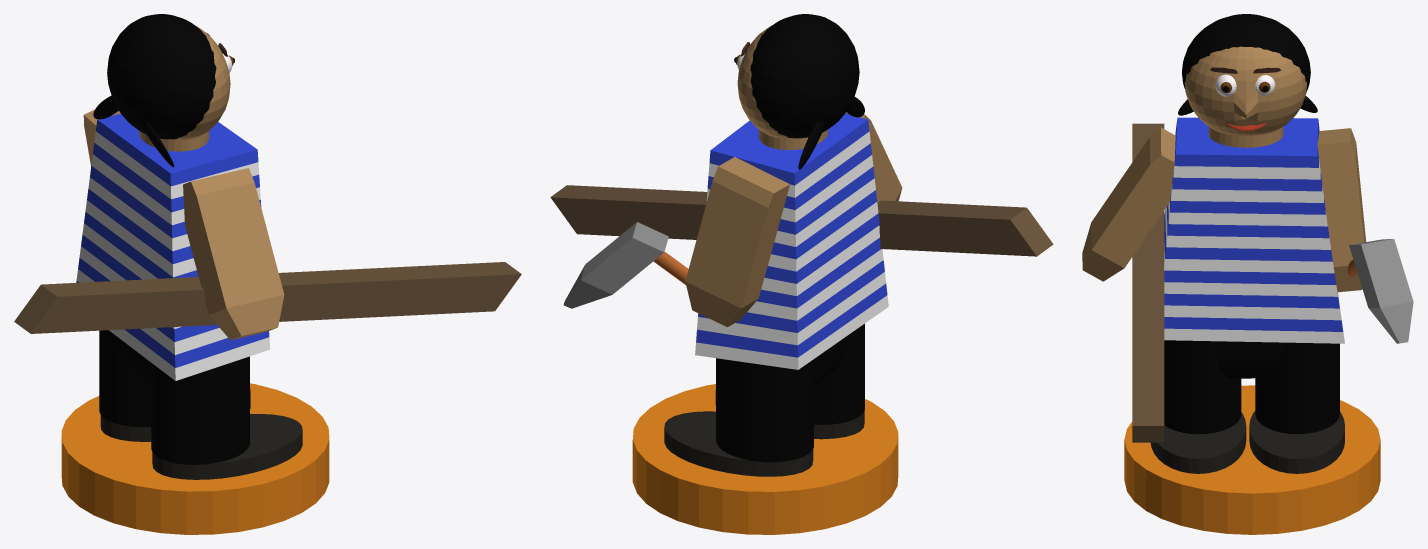
File: Плотник.fbx
3 views of the same model, side by side, from view 1: azimuth 30°, elevation 25°; view 2: azimuth 150°, elevation 25°; view 3: azimuth 270°, elevation 25° (orthographic). The views are drawn at different scales.
Parts seen in each view (by area): view 1: Cylinder.101, Cylinder.092, Cylinder.106, Cylinder.102, Cylinder.082, Cylinder.095, Cylinder.093, Cylinder.096, Cylinder.084, Cylinder.098, Cylinder.005, Cylinder.094; view 2: Cylinder.101, Cylinder.092, Cylinder.106, Cylinder.103, Cylinder.082, Cylinder.096, Cylinder.105, Cylinder.005, Cylinder.095, Cylinder.102, Cylinder.084, Cylinder.098 (+2 smaller); view 3: Cylinder.101, Cylinder.092, Cylinder.084, Cylinder.106, Cylinder.102, Cylinder.096, Cylinder.095, Cylinder.103, Cylinder.105, Cylinder.082, Cylinder.005, Cylinder.093 (+2 smaller).
Boxes of the visible parts, left/top/right/bottom form: Cylinder.101: left=76, top=113, right=270, bottom=380; Cylinder.092: left=61, top=383, right=329, bottom=534; Cylinder.106: left=14, top=262, right=521, bottom=333; Cylinder.102: left=183, top=168, right=284, bottom=340; Cylinder.082: left=107, top=14, right=216, bottom=139; Cylinder.095: left=151, top=356, right=249, bottom=464; Cylinder.093: left=152, top=414, right=302, bottom=479; Cylinder.096: left=99, top=330, right=151, bottom=427; Cylinder.084: left=174, top=25, right=230, bottom=139; Cylinder.098: left=113, top=334, right=151, bottom=387; Cylinder.005: left=100, top=388, right=250, bottom=441; Cylinder.094: left=139, top=131, right=209, bottom=151; Cylinder.101: left=695, top=113, right=888, bottom=369; Cylinder.092: left=632, top=384, right=898, bottom=534; Cylinder.106: left=550, top=185, right=1053, bottom=256; Cylinder.103: left=685, top=156, right=789, bottom=327; Cylinder.082: left=750, top=14, right=859, bottom=138; Cylinder.096: left=716, top=358, right=813, bottom=462; Cylinder.105: left=563, top=222, right=668, bottom=308; Cylinder.005: left=664, top=411, right=813, bottom=476; Cylinder.095: left=814, top=323, right=864, bottom=424; Cylinder.102: left=846, top=112, right=902, bottom=202; Cylinder.084: left=737, top=25, right=792, bottom=138; Cylinder.098: left=813, top=333, right=851, bottom=385; Cylinder.101: left=1164, top=117, right=1344, bottom=343; Cylinder.092: left=1124, top=385, right=1380, bottom=534; Cylinder.084: left=1184, top=46, right=1307, bottom=135; Cylinder.106: left=1132, top=123, right=1164, bottom=442; Cylinder.102: left=1082, top=127, right=1175, bottom=281; Cylinder.096: left=1255, top=342, right=1339, bottom=434; Cylinder.095: left=1164, top=340, right=1241, bottom=434; Cylinder.103: left=1316, top=128, right=1366, bottom=292; Cylinder.105: left=1349, top=239, right=1413, bottom=343; Cylinder.082: left=1182, top=14, right=1310, bottom=91; Cylinder.005: left=1249, top=411, right=1344, bottom=473; Cylinder.093: left=1150, top=412, right=1246, bottom=473.
Bounding box in the file's own units: 1689 × 1541 × 1035.
